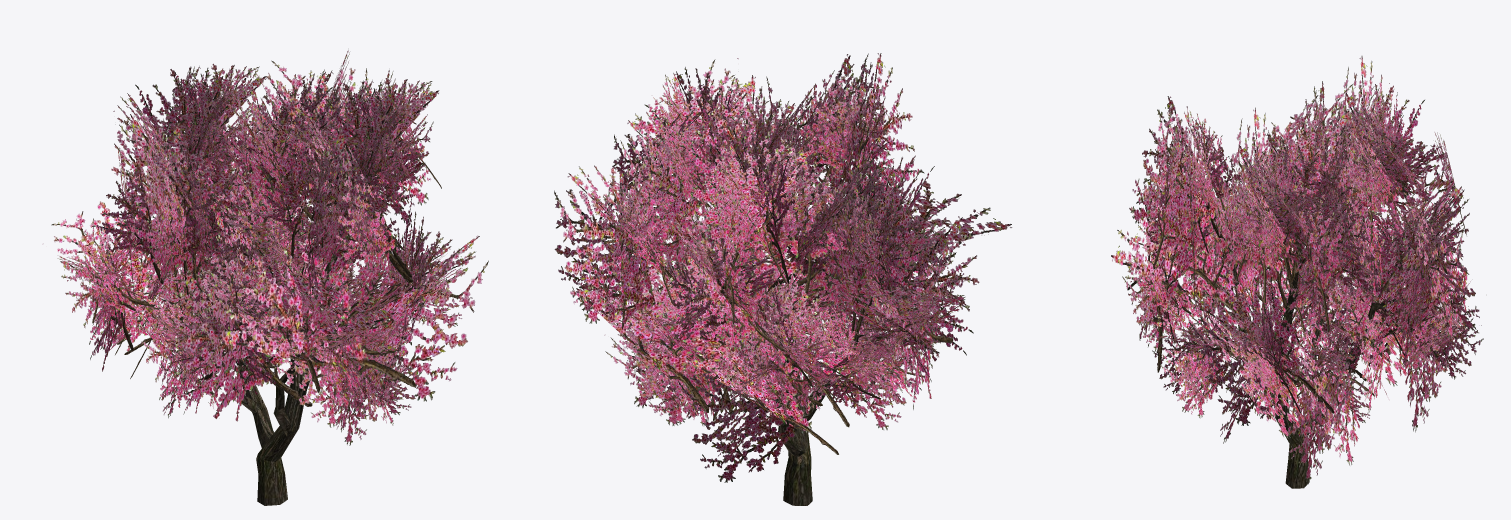
File: tree_e.FBX
3 views of the same model, side by side, from view 1: azimuth 30°, elevation 25°; view 2: azimuth 150°, elevation 25°; view 3: azimuth 270°, elevation 25° (orthographic). The views are drawn at different scales.
Visible parts, largest first — view 1: tree_e; view 2: tree_e; view 3: tree_e.
Part boxes in pixels (box(x1,y1,x2,y2)): tree_e: box(42, 50, 488, 505); tree_e: box(554, 53, 1012, 505); tree_e: box(1111, 56, 1483, 488).
Bounding box in the file's own units: 9.6 × 9.72 × 8.82.
Materials: 2 (2 with a texture image).
